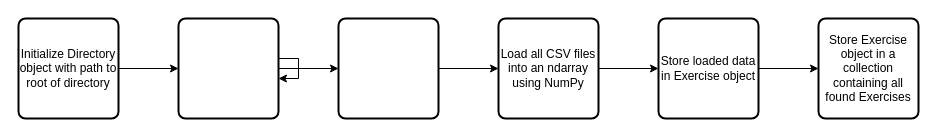
The diagram is 936 pixels wide and 136 high, and some of its shapes have lost their labels. The shapes that lost their labels are listed below. From the top down, each one's centre as x and y in pixels, then its label:
point (228, 68): Loop through the given directory recursively and find all CSV files
point (388, 68): Generate Metadata object for the found files (category, patient nr, ...)
